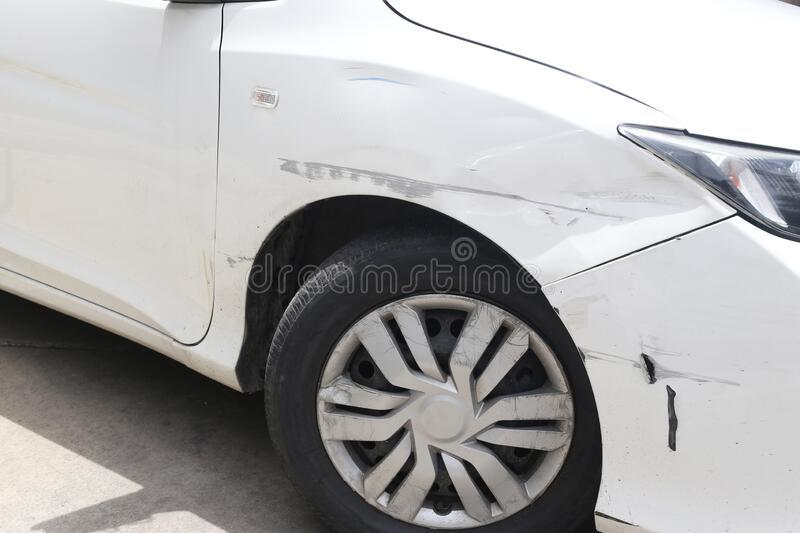fender-dent: (219, 77, 688, 301)
front-bumper-dent: (542, 268, 799, 532)
